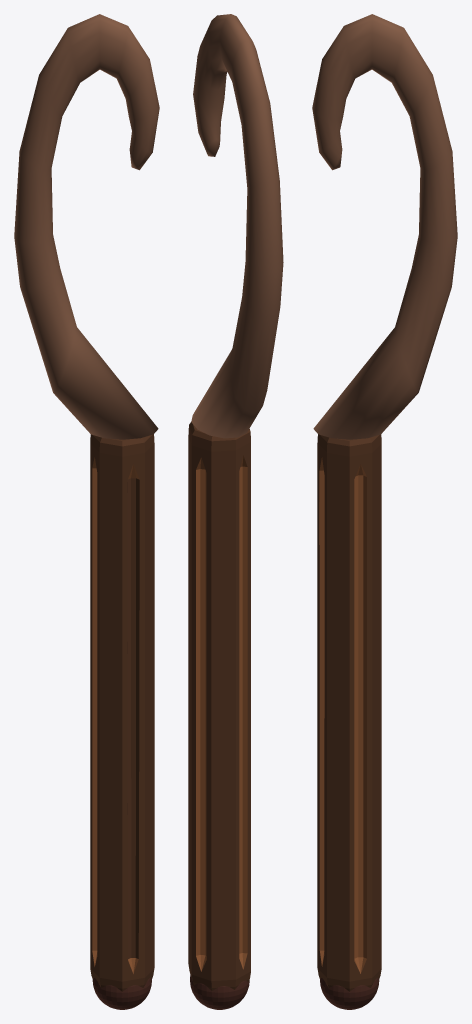
The model's file is Wand 583.glb.
3 renders of one model, left to right at view 1: azimuth 90°, elevation 25°; view 2: azimuth 210°, elevation 25°; view 3: azimuth 270°, elevation 25°, orthographic.
Visible parts, largest first — view 1: GeneratedWand; view 2: GeneratedWand; view 3: GeneratedWand.
Part boxes in pixels (x1,y1,x2,y2): GeneratedWand: [14, 14, 159, 1009]; GeneratedWand: [188, 14, 283, 1009]; GeneratedWand: [312, 14, 457, 1009].
Size of the model in its own units: 0.0289 by 0.4926 by 0.0654.
